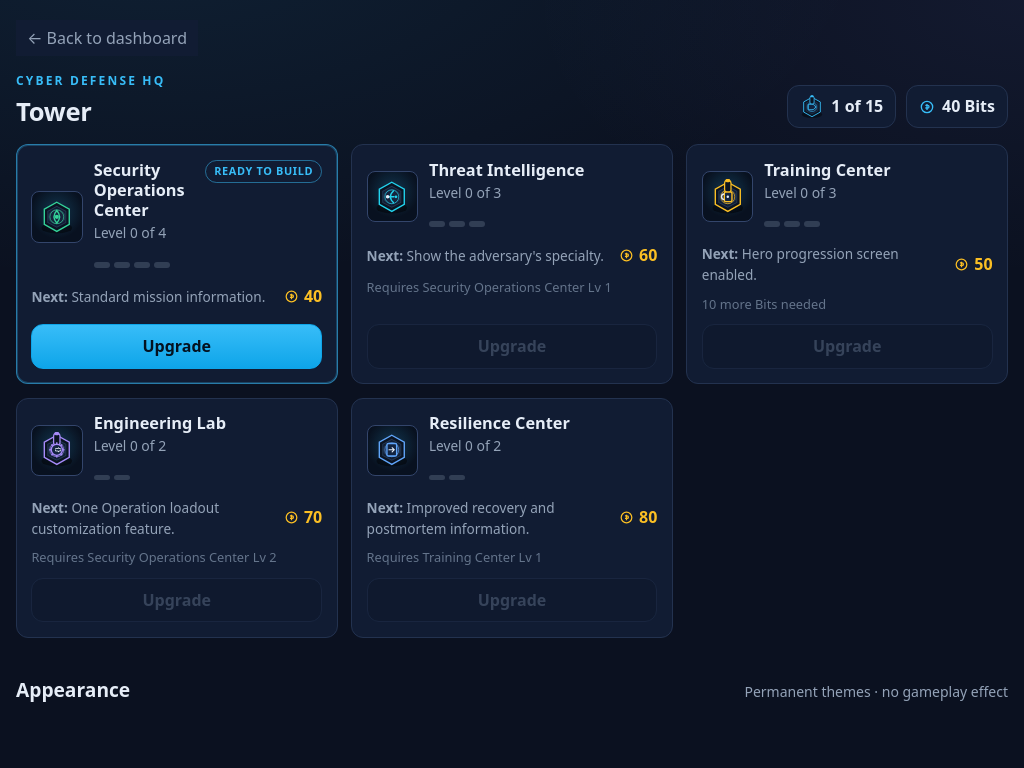
Scenario: CyberDefenseTowerPage › spends Bits and raises the tower level after a purchase
The image size is (1024, 768).
Expected: the text "1 of 15" is shown, left=831, top=94, right=883, bottom=119
Expected: the text "40 Bits" is shown, left=942, top=94, right=995, bottom=119
Click the button with aria-label "Upgrade Security Operations Center to level 1 for 40 Bits" at coordinates (177, 346), box left=31, top=324, right=322, bottom=369
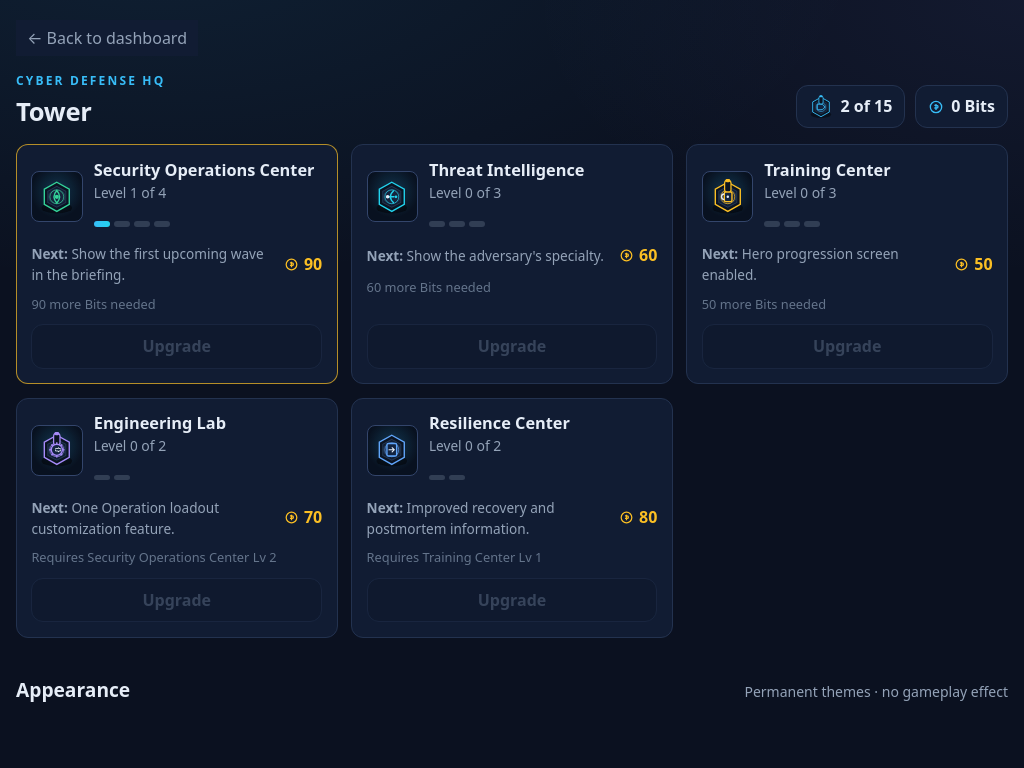
Expected: the text "0 Bits" is shown, left=951, top=94, right=995, bottom=119
Result: the text "Level 1" is shown at left=94, top=182, right=166, bottom=202
Result: the text "2 of 15" is shown at left=840, top=94, right=892, bottom=119
